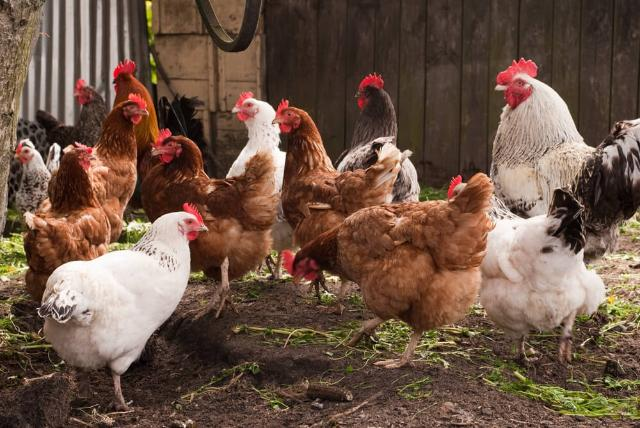Chicken: (280, 172, 496, 368), (37, 202, 211, 404), (492, 55, 640, 251), (447, 175, 602, 361), (141, 128, 276, 318), (269, 98, 400, 249), (23, 144, 112, 303), (336, 74, 421, 203), (86, 93, 151, 214), (226, 91, 288, 189), (111, 61, 160, 158), (14, 136, 60, 222), (74, 77, 111, 146)
